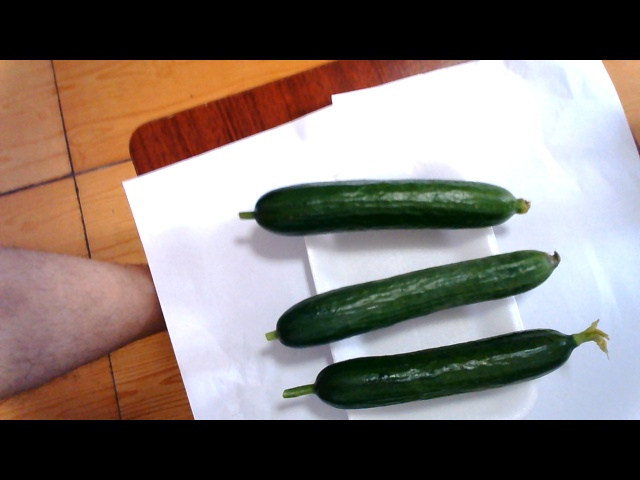cucumber: (250, 245, 574, 326), (286, 330, 606, 412), (238, 162, 536, 238)
